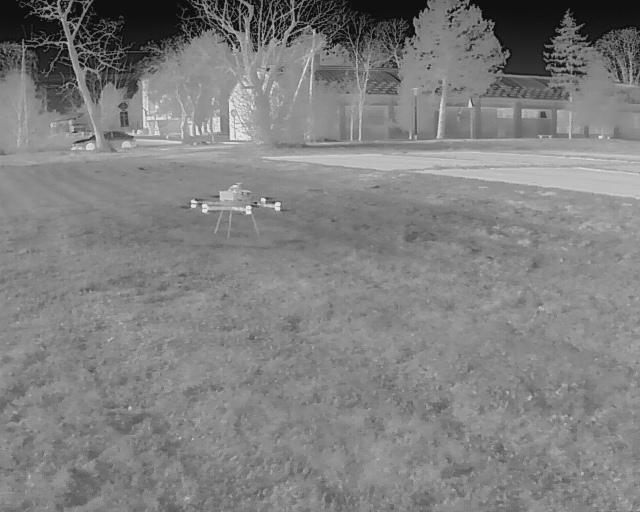drone: (173, 180, 292, 245)
